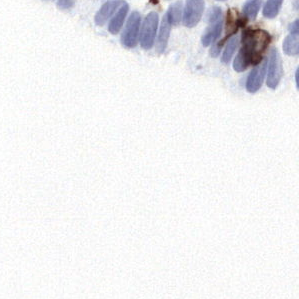Lymphocyte: (241, 29, 262, 62)
